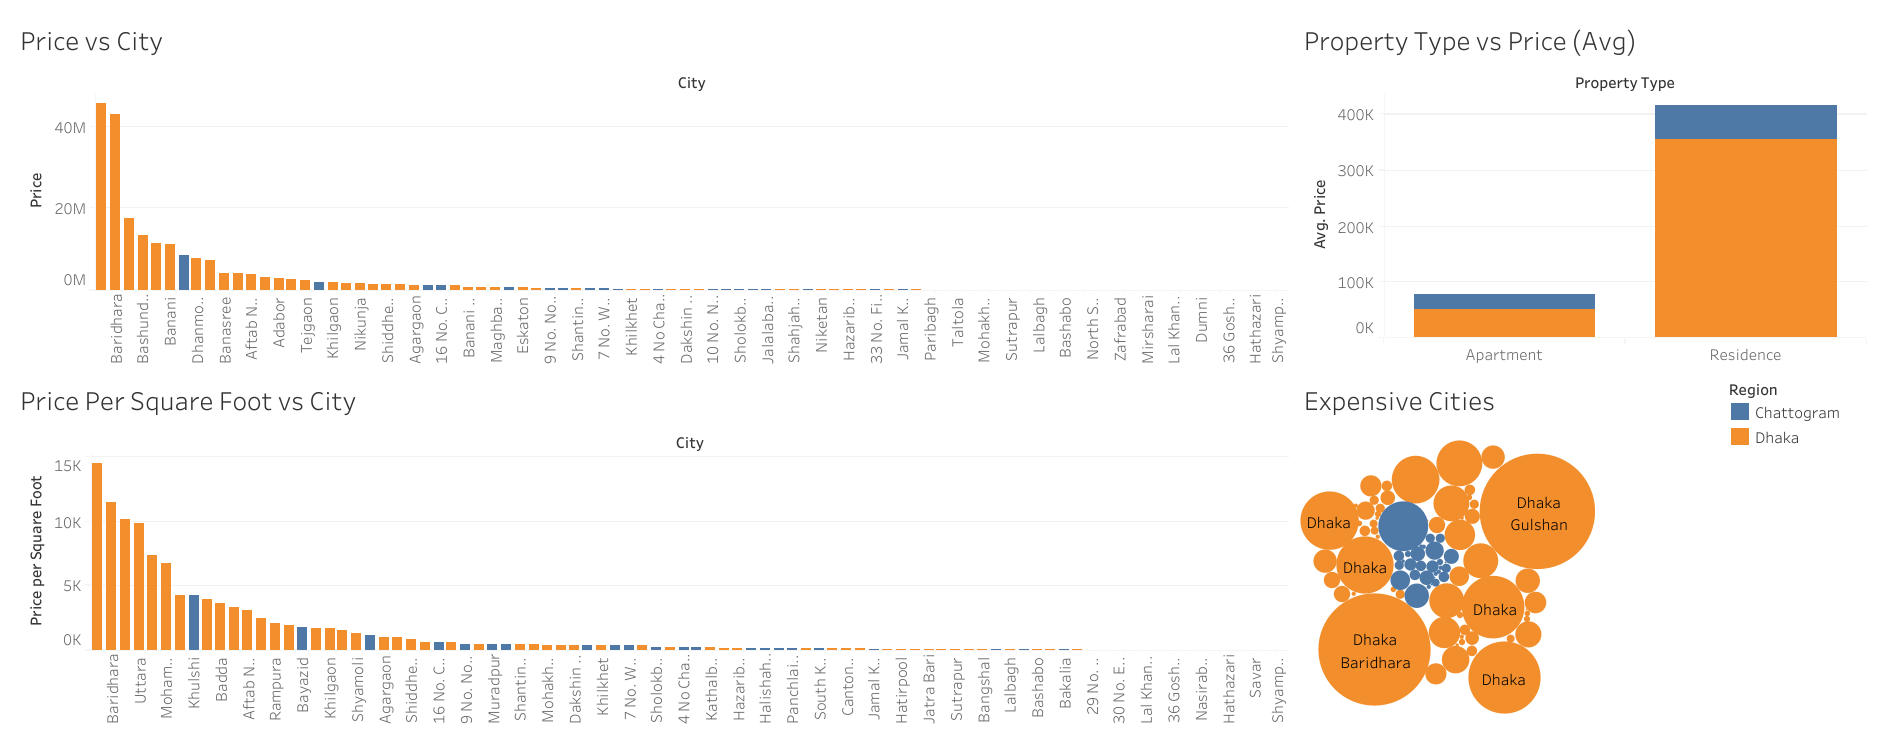

Layout of this report page (visuals, bound fields, positions):
{"tool":"tableau","page":{"name":"Dashboard 1","canvas":[1000,1000],"units":"permille","ordinal":0},"visuals":[{"type":"worksheet","title":"Sheet 1","mark":"Automatic","rows":["Price"],"cols":["City"],"box":[4.8,9.1,683.2,490.9]},{"type":"worksheet","title":"Sheet 4","mark":"Automatic","rows":["Price"],"cols":["Property Type"],"box":[688,9.1,307.2,490.9]},{"type":"worksheet","title":"Sheet 3","mark":"Bar","rows":["Calculation_749567888911478784"],"cols":["City"],"box":[4.8,500,683.2,490.9]},{"type":"worksheet","title":"Sheet 2","mark":"Circle","box":[688,500,228.1,490.9]},{"type":"legend","title":"Sheet 2","param":"[federated.0ht9m8r149p8w513f1s6f0k9a5is].[none:Region:nk]","box":[916.1,500,79.1,490.9]}]}

Visuals, with their boxes on the dashboard's canvas, which has no fixed pixel size, in thousandths of its width and height (x1, y1, x2, y2). These are canvas units, not pixel positions in the 1880x739 screenshot, which may show the page scaled, cropped or inside an application window:
"Sheet 1" worksheet: BBox(5, 9, 688, 500)
"Sheet 4" worksheet: BBox(688, 9, 995, 500)
"Sheet 3" worksheet (Bar marks): BBox(5, 500, 688, 991)
"Sheet 2" worksheet (Circle marks): BBox(688, 500, 916, 991)
"Sheet 2" legend: BBox(916, 500, 995, 991)
